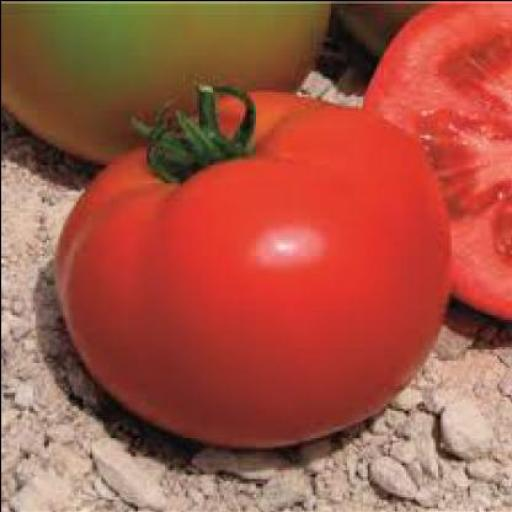biodegradable: (52, 82, 449, 448), (2, 1, 332, 169), (356, 1, 510, 319)
